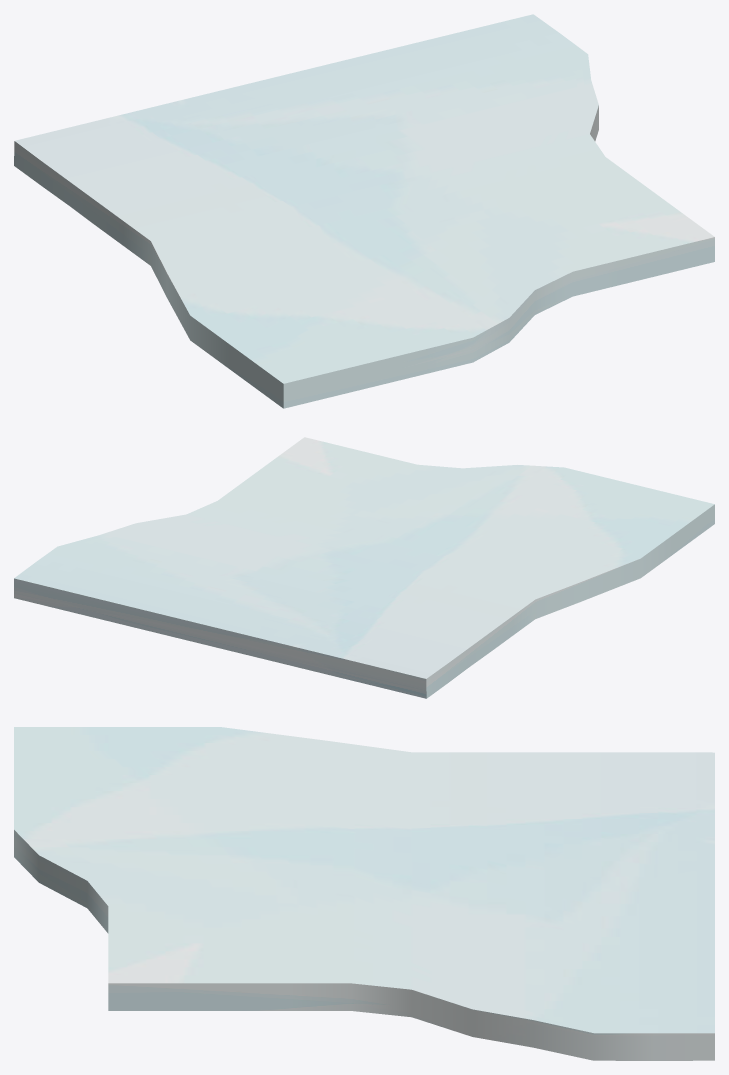
File: ice_sheet2.obj
3 views of the same model, one above another, from view 1: azimuth 30°, elevation 25°; view 2: azimuth 150°, elevation 25°; view 3: azimuth 270°, elevation 25° (orthographic). The views are drawn at different scales.
Visible parts, largest first — view 1: polySurface1 pCube1; view 2: polySurface1 pCube1; view 3: polySurface1 pCube1.
Boxes of the visible parts, x1,y1,x2,y2 form: polySurface1 pCube1: (14,14,714,408); polySurface1 pCube1: (14,437,714,698); polySurface1 pCube1: (14,727,714,1060).
Bounding box in the file's own units: 3.66 × 0.1536 × 3.54.
